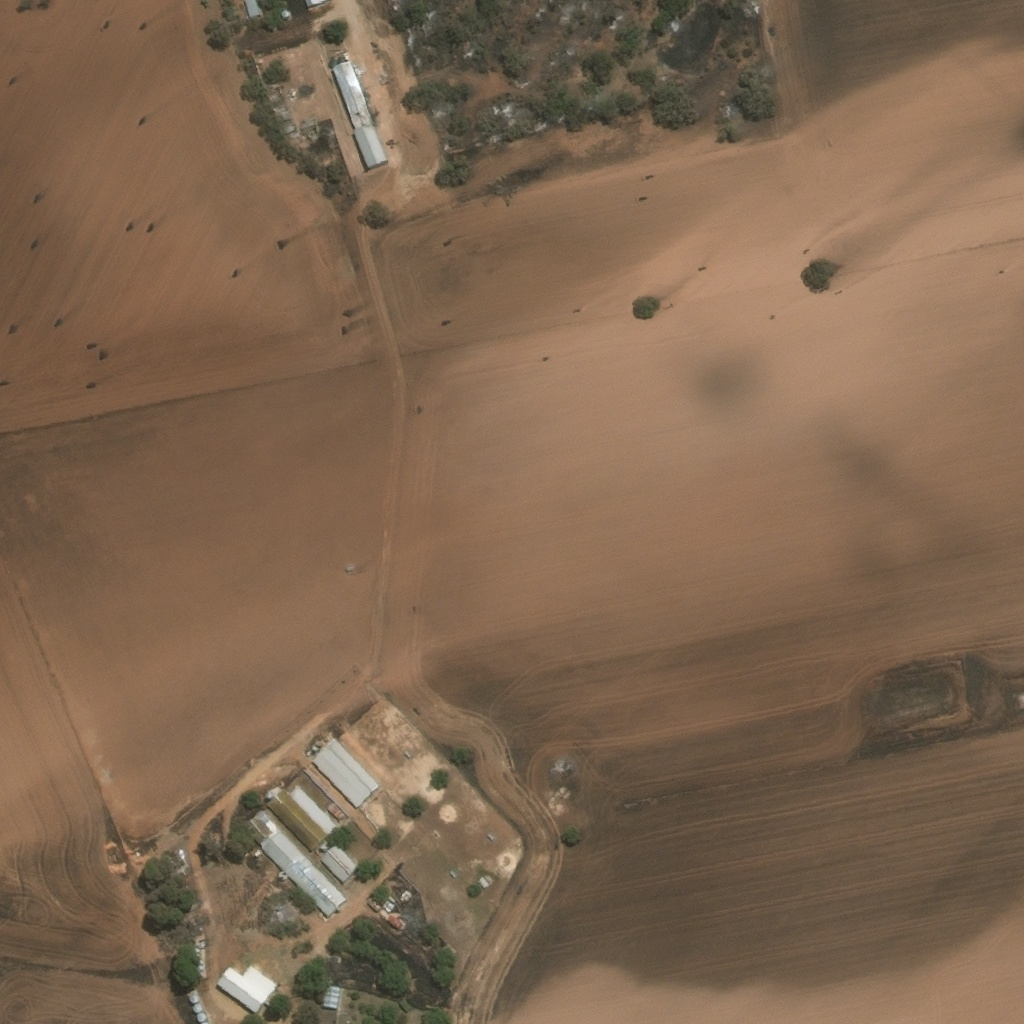0 no-damage: (260, 832, 348, 920), (310, 739, 382, 810), (266, 790, 328, 854), (329, 51, 376, 128), (217, 964, 279, 1014), (355, 121, 392, 169), (320, 844, 360, 884), (323, 984, 342, 1008), (326, 803, 345, 823), (477, 874, 494, 891), (386, 916, 402, 932), (366, 898, 382, 914), (189, 993, 200, 1004), (197, 1012, 207, 1022), (282, 8, 292, 17), (193, 1005, 202, 1014)
3 destroyed: (262, 77, 298, 138)
